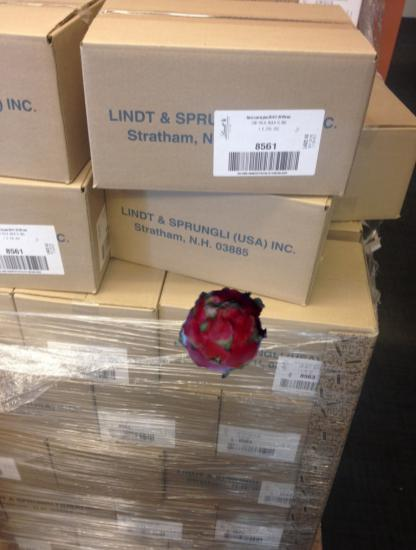Pitahaya: (175, 286, 269, 380)
